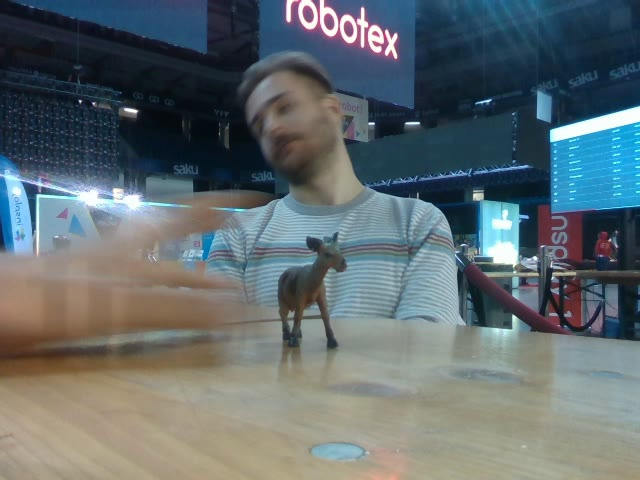toy: (274, 230, 348, 348)
